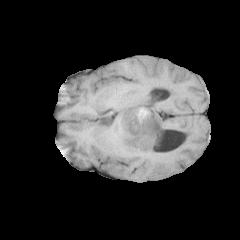glioma: (97, 103, 166, 159)
